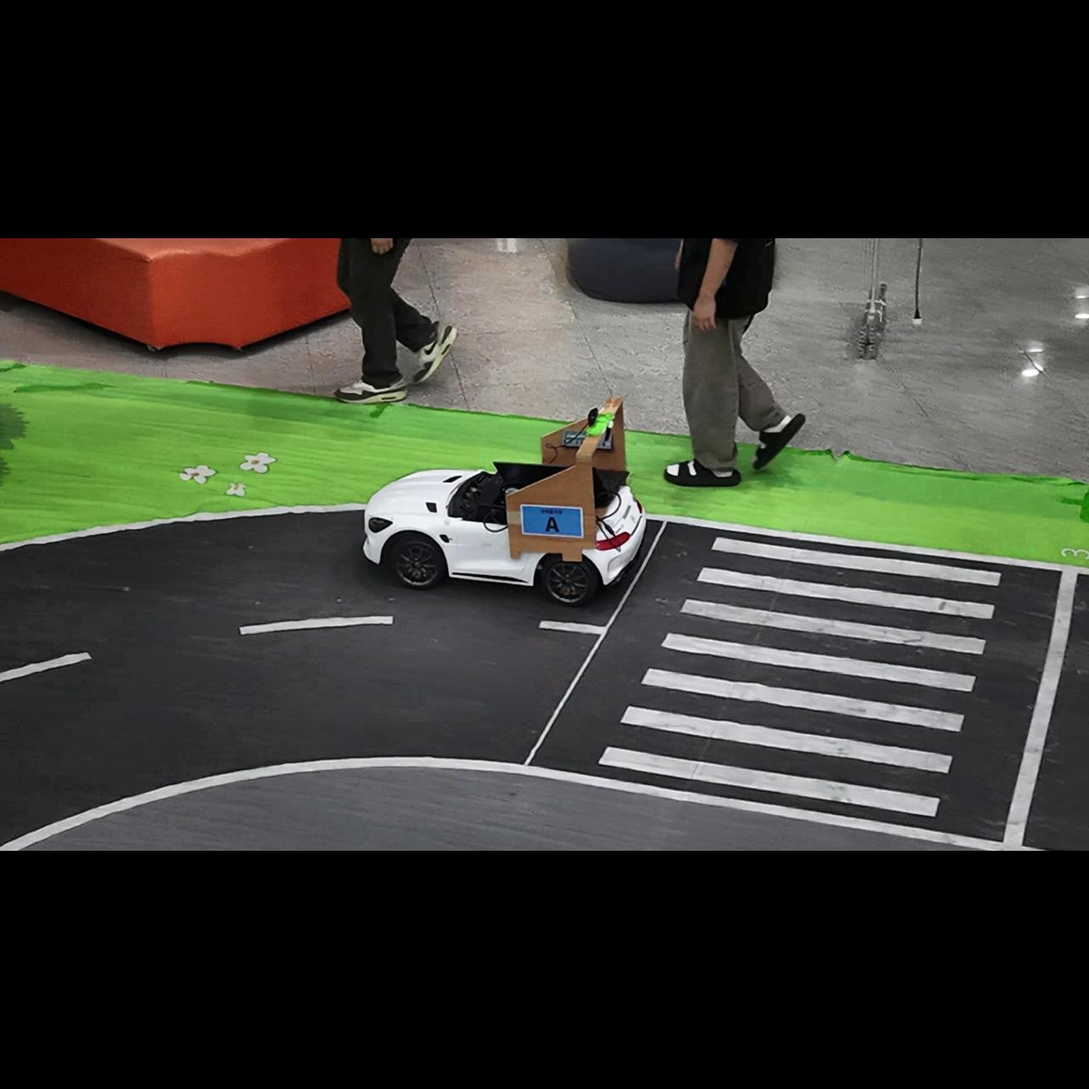broken_line: (239, 616, 394, 635), (0, 652, 92, 682), (539, 621, 605, 635)
crosswalk: (598, 537, 1002, 818)
